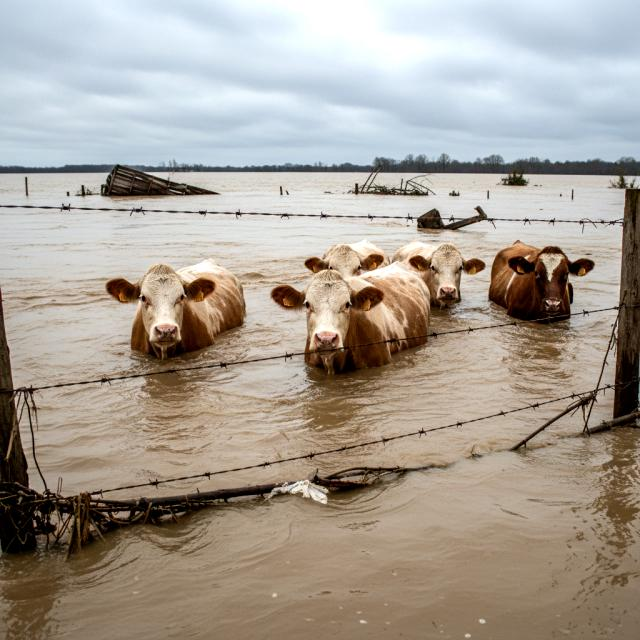cow: (264, 264, 441, 388), (95, 246, 262, 370), (485, 228, 602, 329), (388, 235, 489, 315), (304, 234, 391, 285)
